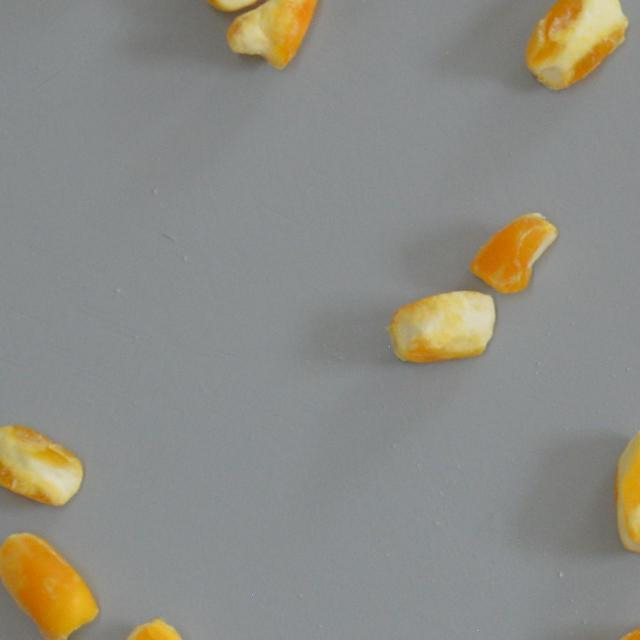agrietado: (96, 615, 188, 640)
pelicula: (0, 530, 103, 640), (520, 0, 634, 92), (383, 282, 496, 366), (0, 410, 86, 512), (466, 210, 561, 294), (223, 0, 318, 70), (610, 421, 640, 555), (574, 615, 640, 640), (191, 0, 276, 14)
